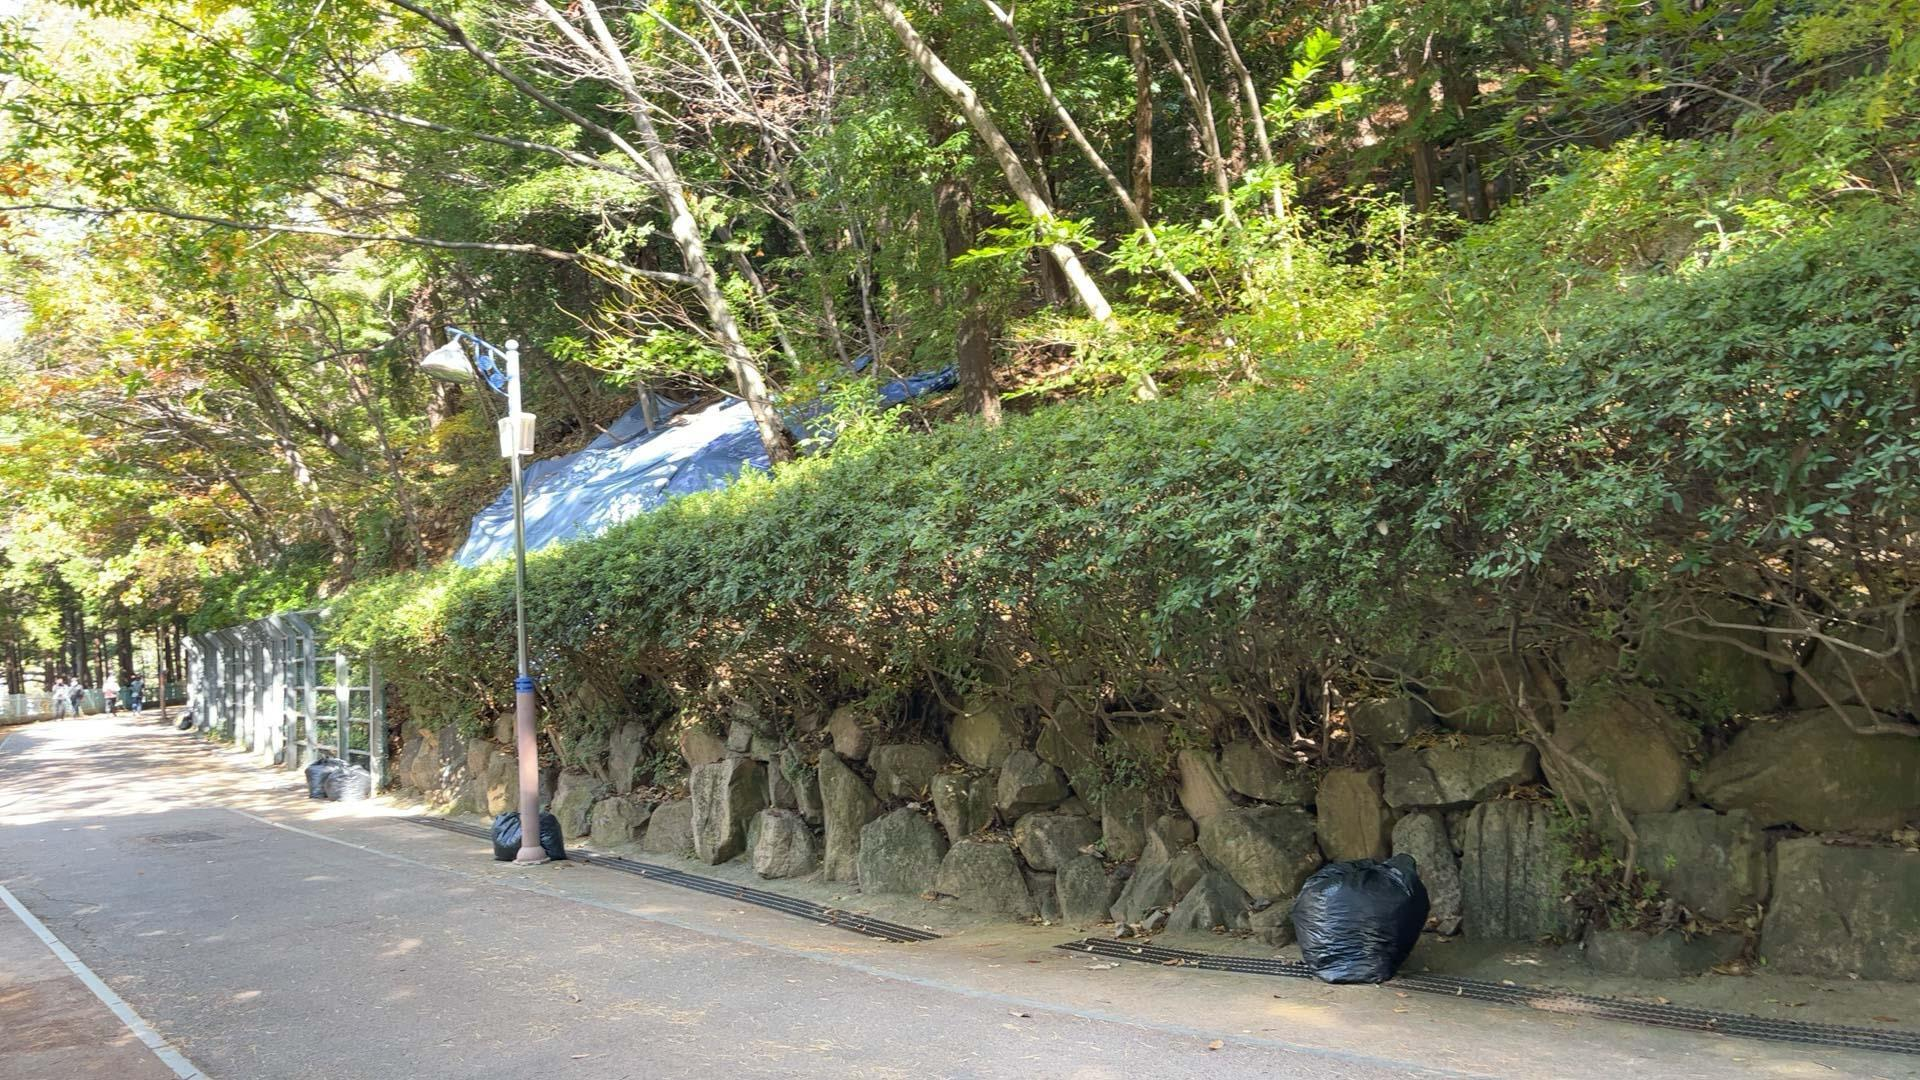black_bag: (1280, 848, 1433, 997), (483, 802, 571, 866), (302, 752, 349, 799), (323, 764, 371, 800)
